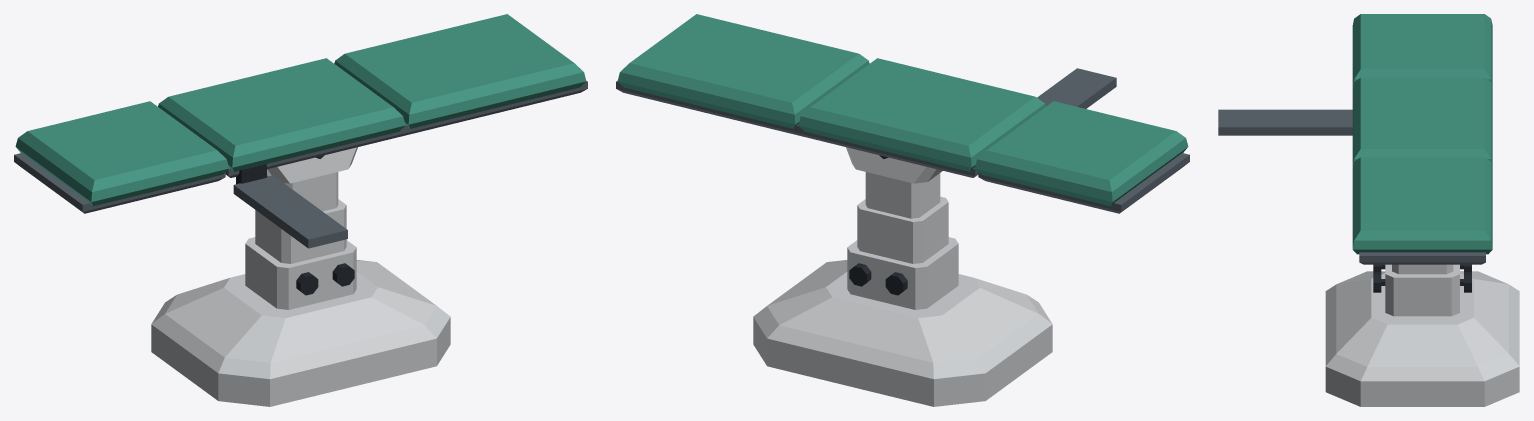
Rendered from operating-table-af1a83.glb.
The picture shows the model from 3 angles, left to right: view 1: azimuth 30°, elevation 25°; view 2: azimuth 150°, elevation 25°; view 3: azimuth 270°, elevation 25°; orthographic projection. The views are drawn at different scales.
Parts seen in each view (by area): view 1: deck, operating-table, head-plate; view 2: operating-table, deck, head-plate; view 3: deck, operating-table, head-plate.
Part boxes in pixels (<box>): deck: <box>158,14,587,248</box>; operating-table: <box>151,147,450,406</box>; head-plate: <box>14,101,229,213</box>; operating-table: <box>753,147,1052,406</box>; deck: <box>616,14,1116,177</box>; head-plate: <box>974,101,1189,213</box>; deck: <box>1218,77,1492,264</box>; operating-table: <box>1325,264,1519,406</box>; head-plate: <box>1352,14,1492,87</box>.
Size of the model in its own units: 2 by 0.95 by 1.12.
